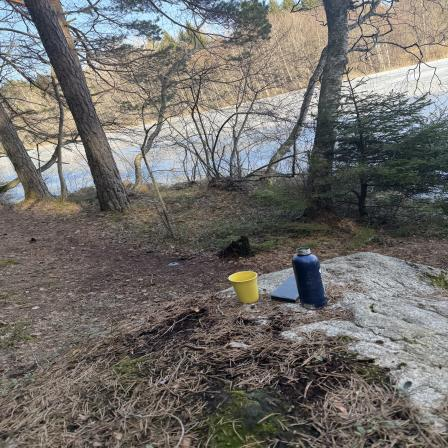blue_bottle: (290, 246, 330, 308)
phone: (272, 270, 305, 304)
yellow_cup: (226, 271, 262, 306)
